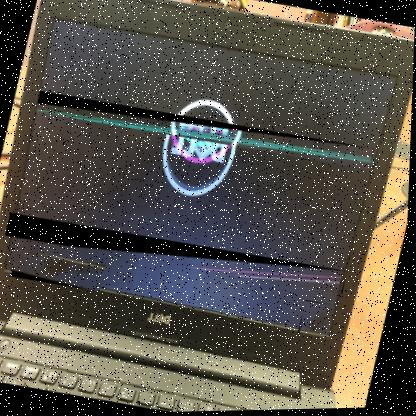lines: (3, 206, 351, 302), (33, 85, 377, 178)
spot: (11, 248, 107, 295), (298, 300, 340, 342)
